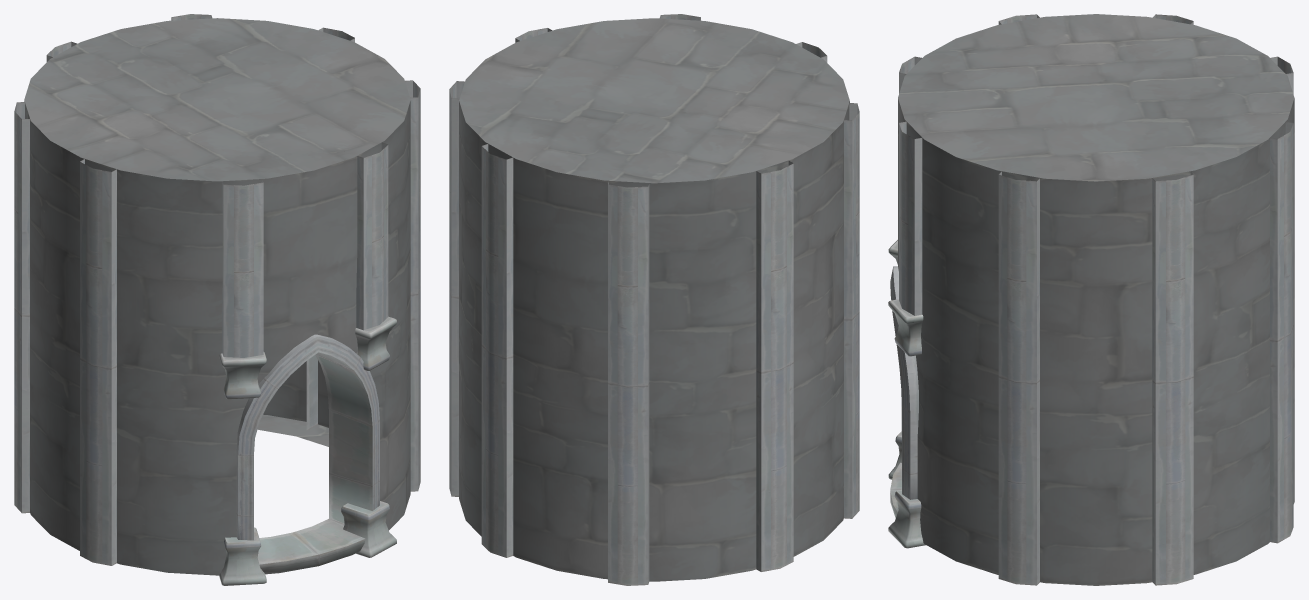
File: SM_TowerD_Door.fbx
3 views of the same model, side by side, from view 1: azimuth 30°, elevation 25°; view 2: azimuth 150°, elevation 25°; view 3: azimuth 270°, elevation 25° (orthographic). The views are drawn at different scales.
Parts seen in each view (by area): view 1: SM_TowerD_Door_LOD0; view 2: SM_TowerD_Door_LOD0; view 3: SM_TowerD_Door_LOD0.
Boxes of the visible parts, x1=… form: SM_TowerD_Door_LOD0: x1=14, y1=14, x2=420, y2=585; SM_TowerD_Door_LOD0: x1=449, y1=14, x2=859, y2=585; SM_TowerD_Door_LOD0: x1=888, y1=14, x2=1294, y2=585.
Size of what is drawn, in the model's own units: 400 by 463 by 410.
